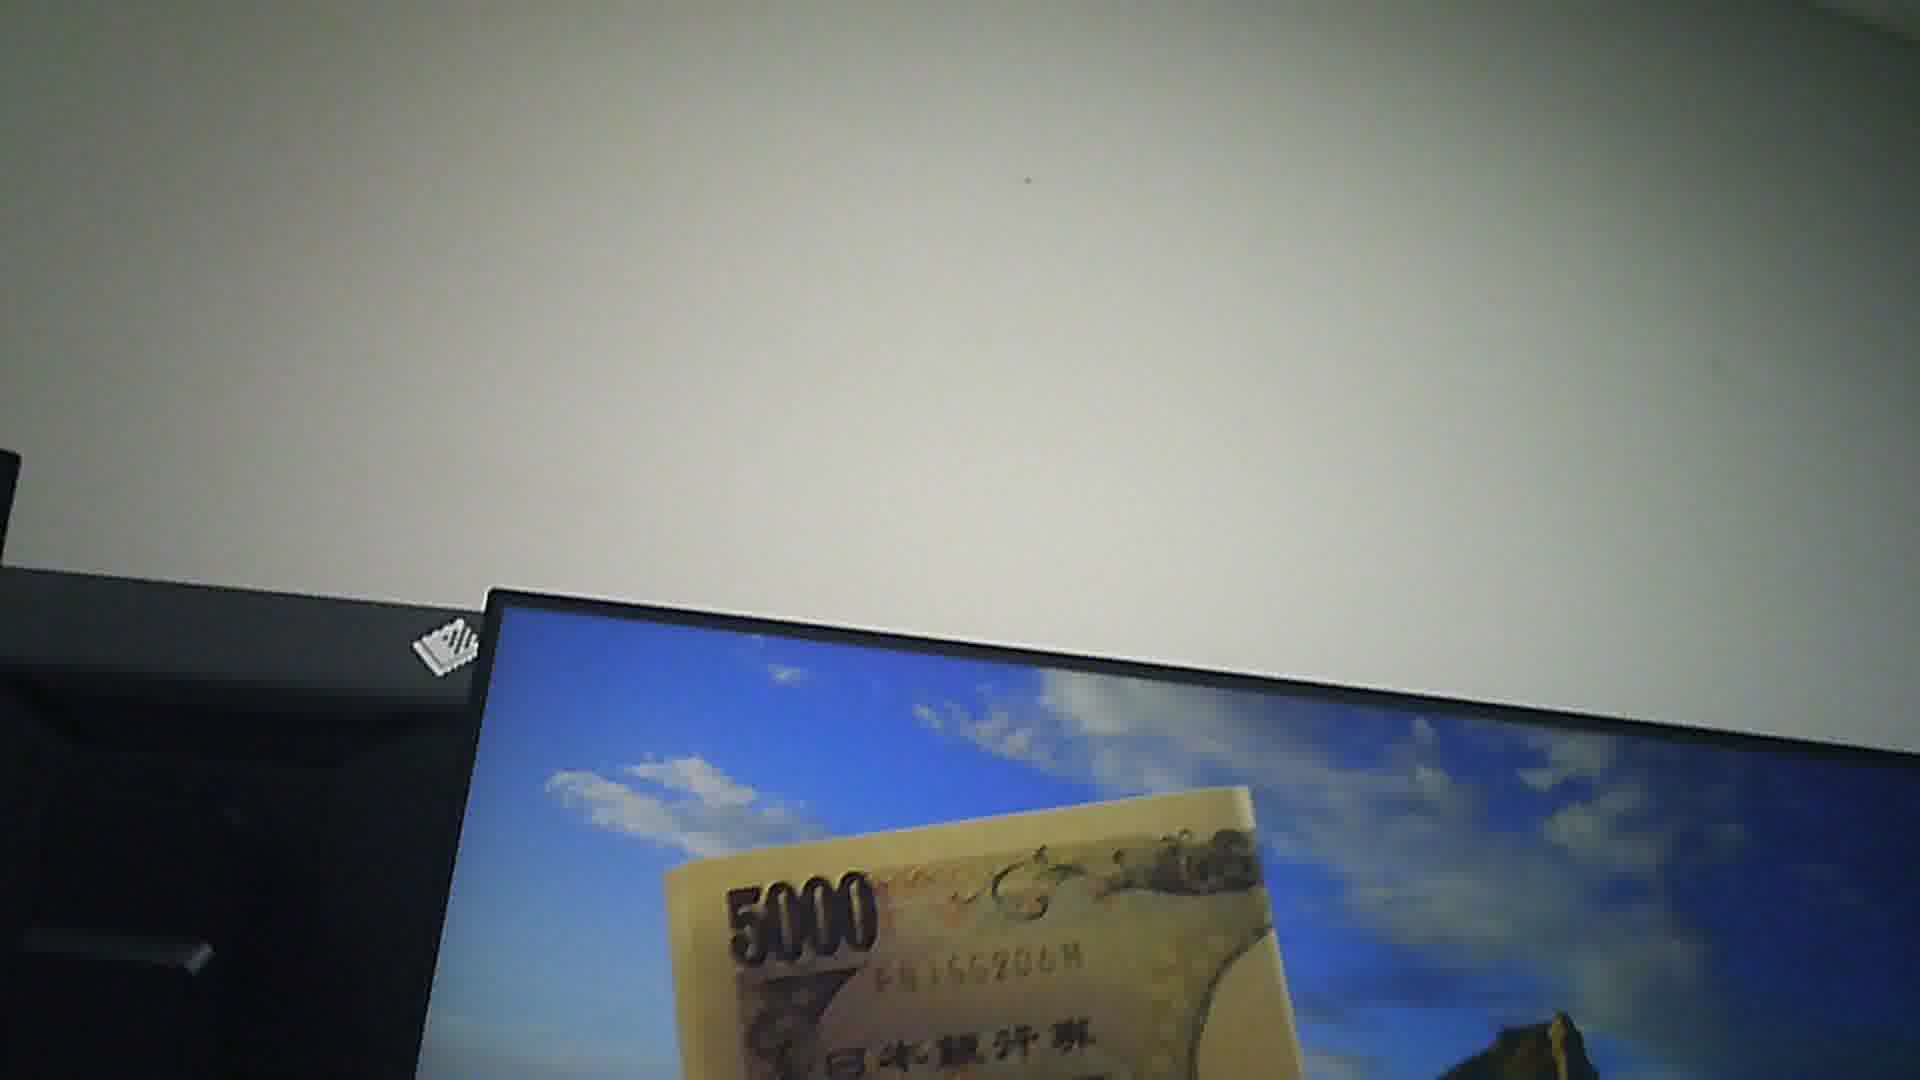5,000 Yen: (665, 799, 1307, 1079)
